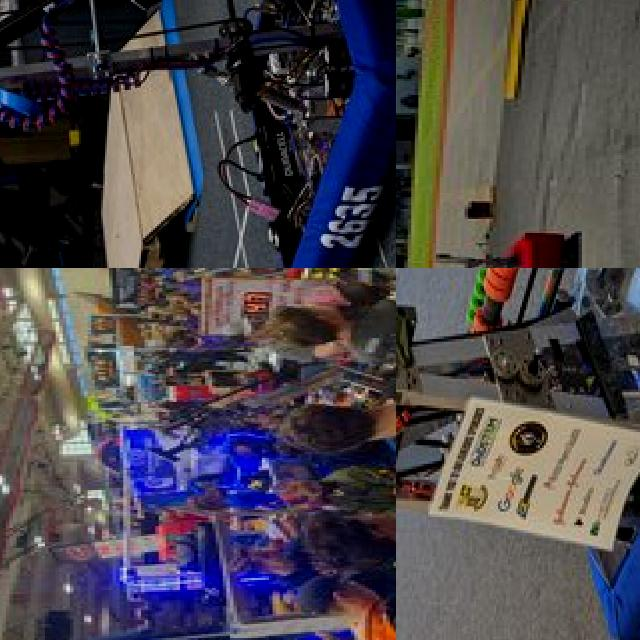FRC-Robots: (0, 0, 396, 268), (396, 268, 640, 640), (150, 348, 396, 496), (434, 217, 594, 268)
